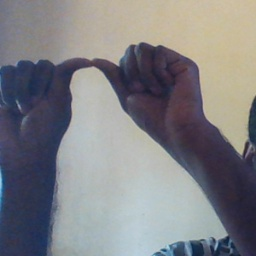A: (4, 41, 197, 150)
